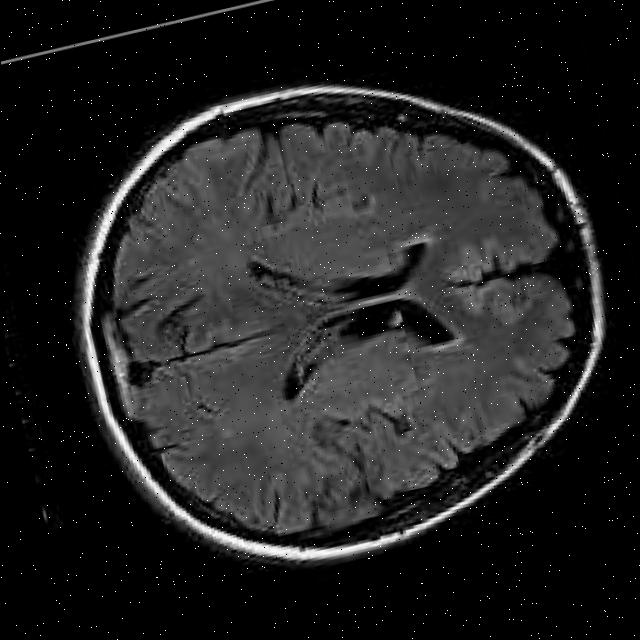NoTumor: (60, 55, 619, 579)
